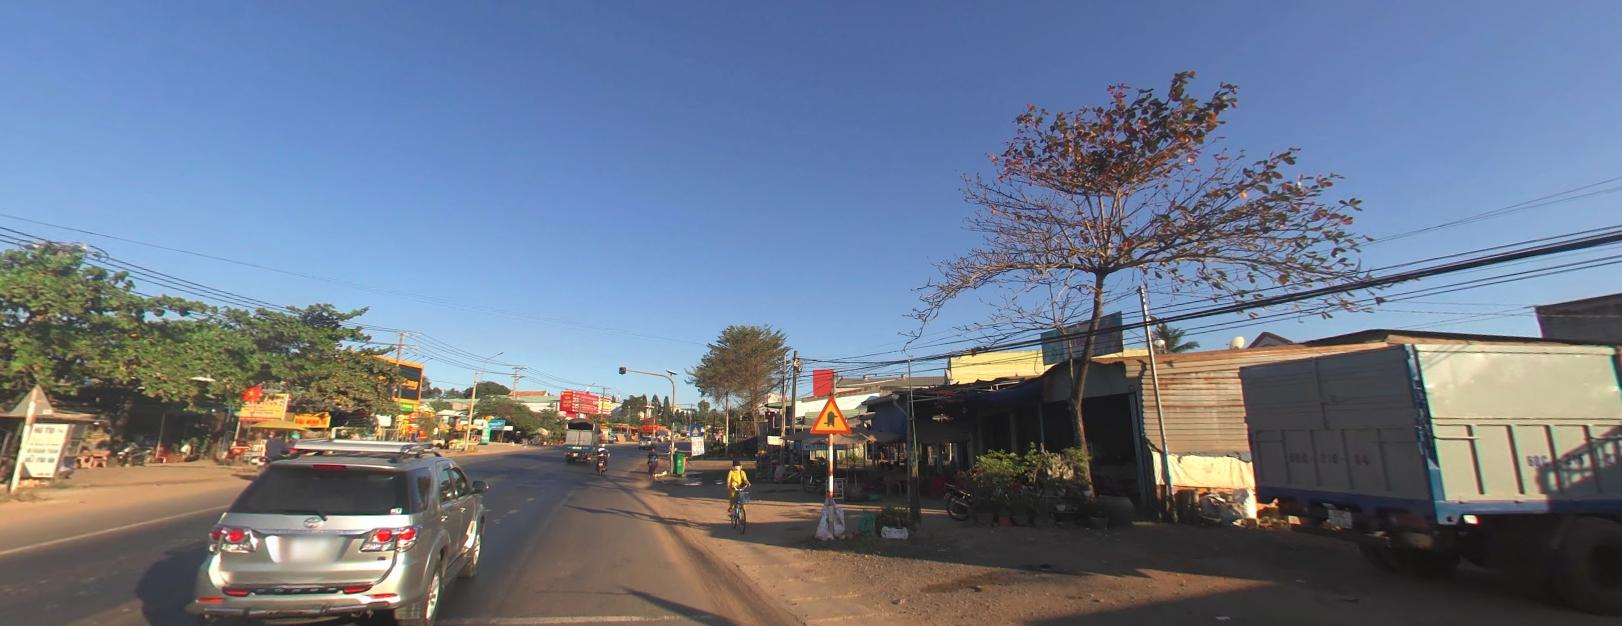Nguy hiem: (809, 395, 852, 433)
